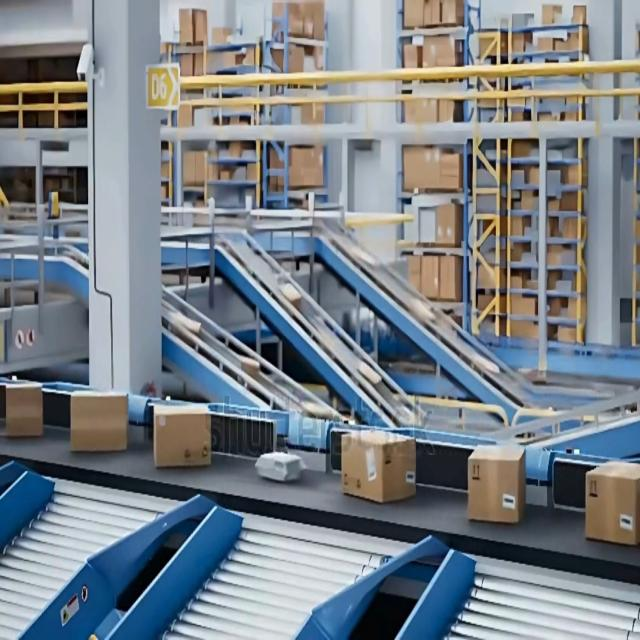product 1: (341, 430, 416, 503), (467, 444, 526, 524), (585, 459, 639, 546), (152, 402, 212, 468), (70, 391, 128, 452), (5, 380, 43, 437)
product 2: (255, 450, 302, 482)
